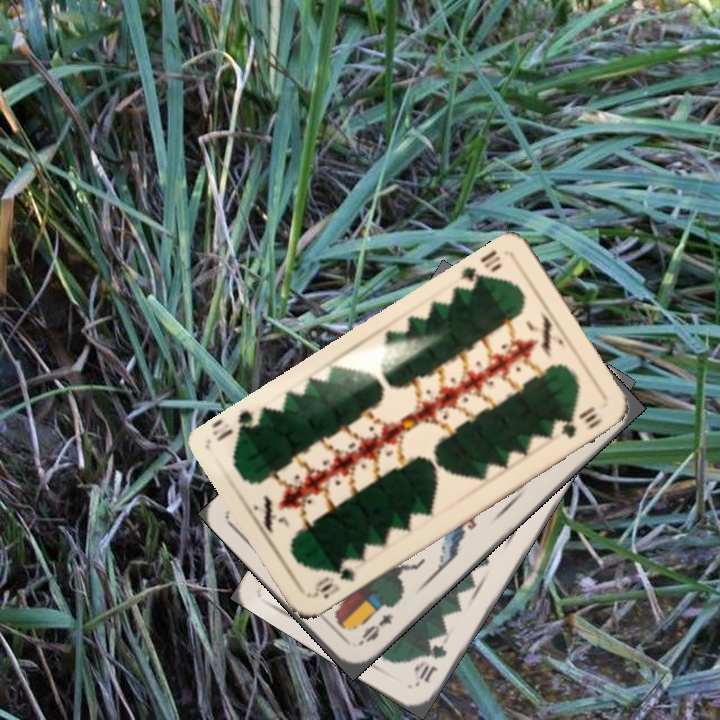EO: (354, 610, 397, 649)
G10: (456, 246, 504, 294), (309, 562, 358, 602), (412, 640, 450, 685)
